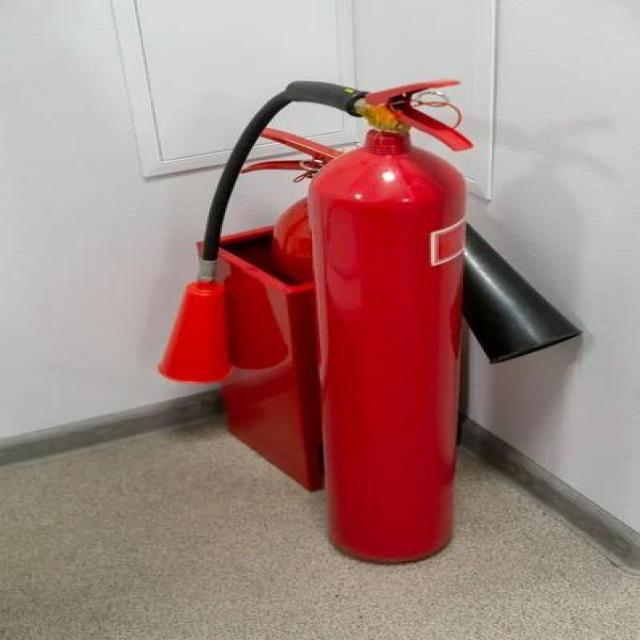fire_extinguisher: (149, 67, 485, 571), (223, 118, 589, 476)
